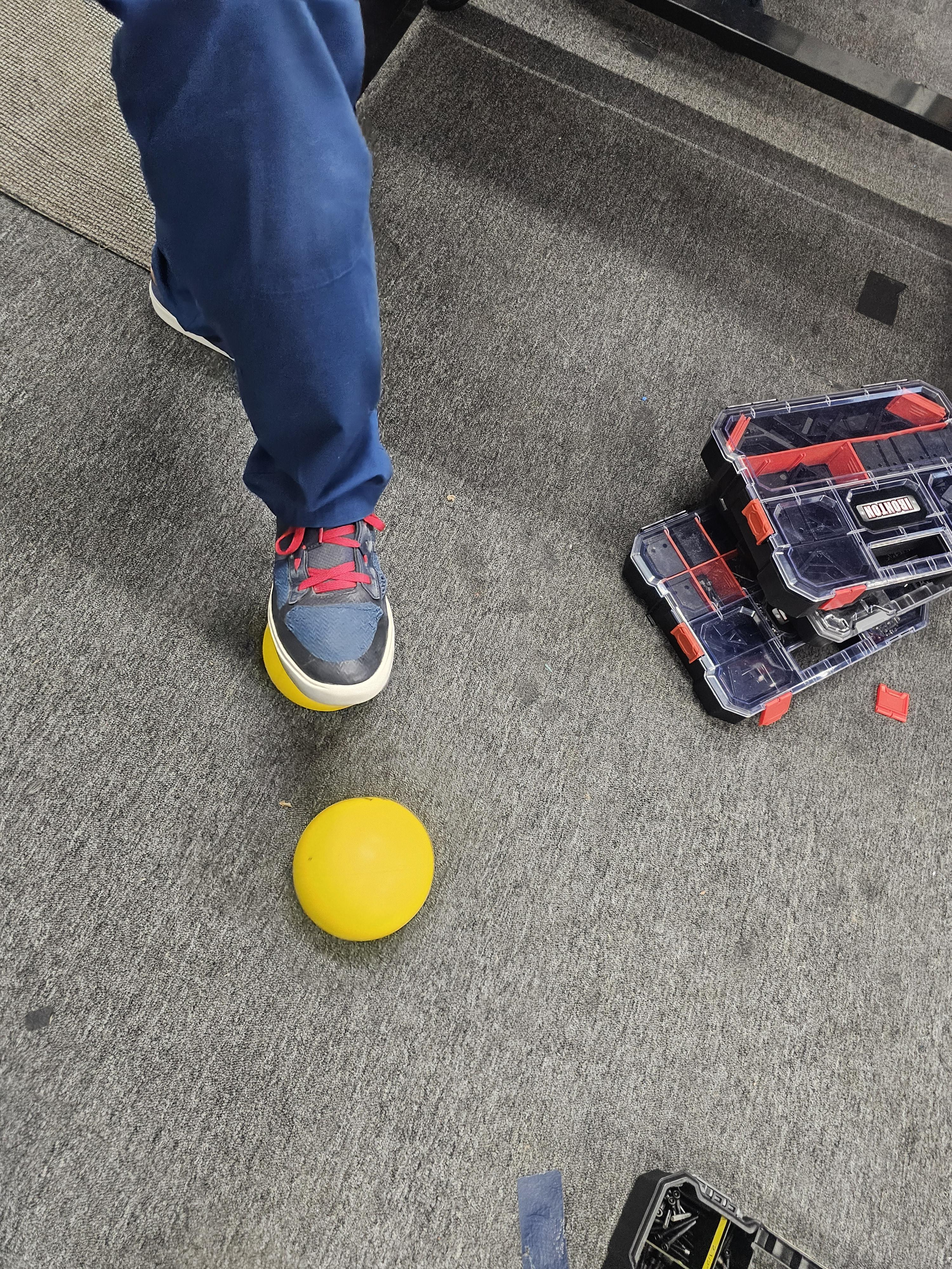fuel: (279, 789, 447, 943)
